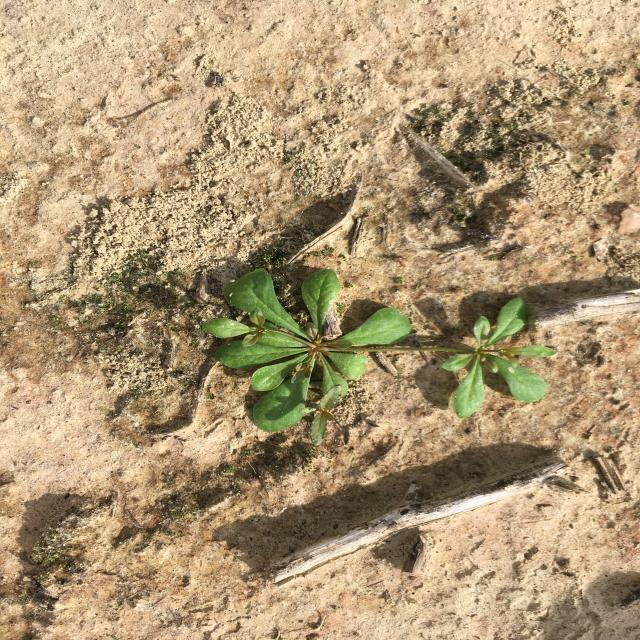Carpetweed: (203, 268, 557, 432)
